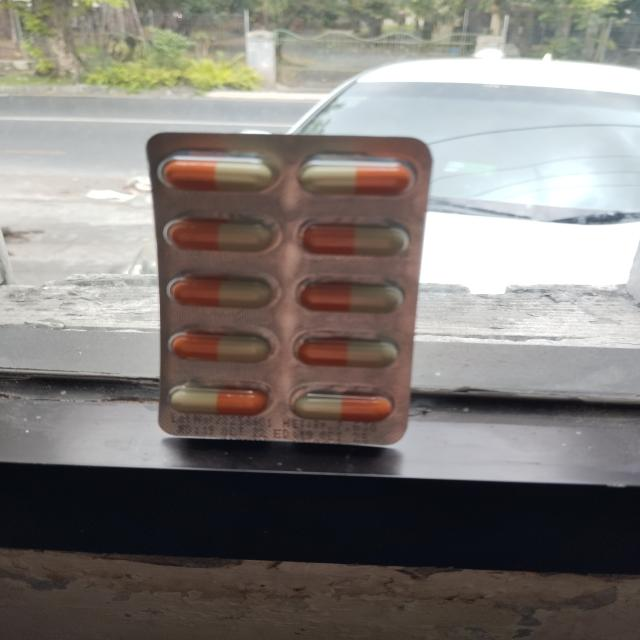B3: (147, 134, 434, 447)
